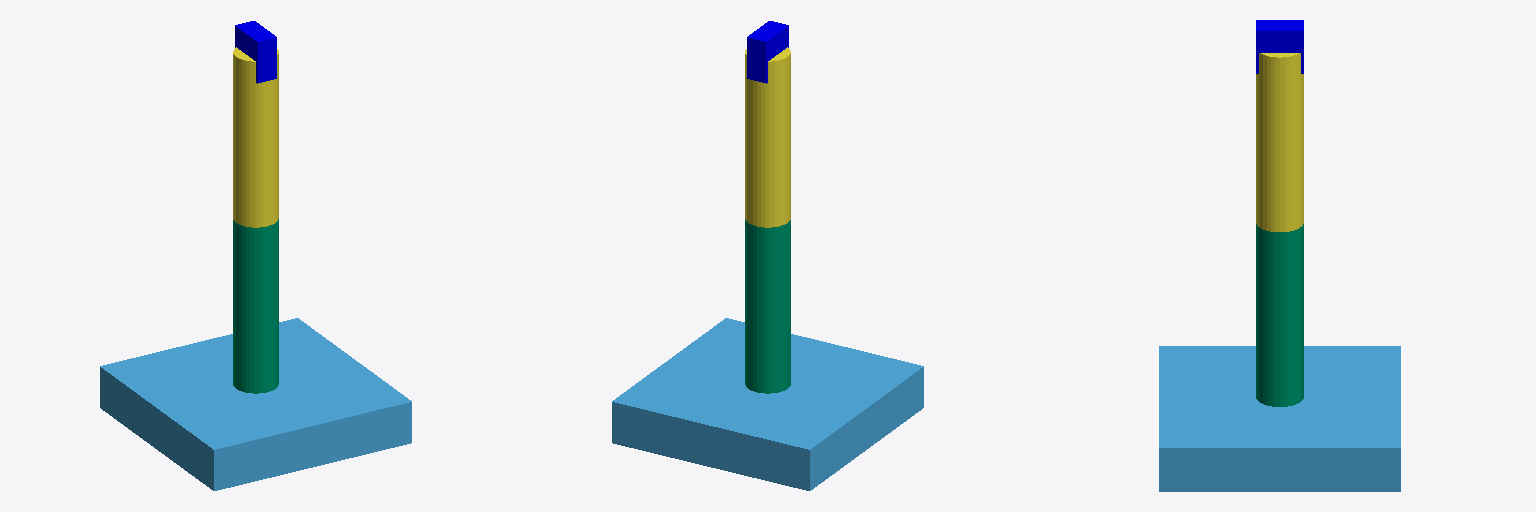
URDF robot description (waste_robot):
<?xml version="1.0"?>
<robot name="waste_robot">

  <link name="world"/>
<joint name="fixed" type="fixed">
  <parent link="world"/>
  <child link="base_link"/>
  <origin xyz="0 0 0" rpy="0 0 0"/>
</joint>

  <!-- BASE LINK -->
  <link name="base_link">
    <visual>
      <geometry><box size="0.5 0.5 0.1"/></geometry>
    </visual>
<!--
<collision>
  <geometry><box size="0.5 0.5 0.1"/></geometry>
</collision>
-->
    <inertial>
      <mass value="5.0"/>
      <inertia ixx="0.1" ixy="0" ixz="0" iyy="0.1" iyz="0" izz="0.1"/>
    </inertial>
  </link>

  <!-- SHOULDER JOINT -->
  <joint name="shoulder_joint" type="fixed">
    <parent link="base_link"/>
    <child link="shoulder_link"/>
    <origin xyz="0 0 0.05"/>
    <axis xyz="0 0 1"/>
    <limit effort="300" velocity="2.0" lower="-3.14" upper="3.14"/>
  </joint>

  <!-- SHOULDER LINK -->
  <link name="shoulder_link">
    <visual>
      <geometry><cylinder length="0.4" radius="0.05"/></geometry>
      <origin xyz="0 0 0.2"/>
    </visual>
    <collision>
      <geometry><cylinder length="0.4" radius="0.05"/></geometry>
      <origin xyz="0 0 0.2"/>
    </collision>
    <inertial>
      <mass value="2.0"/>
      <origin xyz="0 0 0.2"/>
      <inertia ixx="0.01" ixy="0" ixz="0" iyy="0.01" iyz="0" izz="0.01"/>
    </inertial>
  </link>

  <!-- ELBOW JOINT -->
  <joint name="elbow_joint" type="fixed">
    <parent link="shoulder_link"/>
    <child link="elbow_link"/>
    <origin xyz="0 0 0.4"/>
    <axis xyz="0 1 0"/>
    <limit effort="300" velocity="2.0" lower="-1.57" upper="1.57"/>
  </joint>

  <!-- ELBOW LINK -->
  <link name="elbow_link">
    <visual>
      <geometry><cylinder length="0.4" radius="0.05"/></geometry>
      <origin xyz="0 0 0.2"/>
    </visual>
    <collision>
      <geometry><cylinder length="0.4" radius="0.05"/></geometry>
      <origin xyz="0 0 0.2"/>
    </collision>
    <inertial>
      <mass value="2.0"/>
      <origin xyz="0 0 0.2"/>
      <inertia ixx="0.01" ixy="0" ixz="0" iyy="0.01" iyz="0" izz="0.01"/>
    </inertial>
  </link>

  <!-- GRIPPER LINK -->
  <link name="gripper_link">
    <visual>
      <geometry><box size="0.05 0.1 0.1"/></geometry>
      <material name="blue">
        <color rgba="0 0 1 1"/>
      </material>
    </visual>
    <collision>
      <geometry><box size="0.05 0.1 0.1"/></geometry>
    </collision>
    <inertial>
      <mass value="0.5"/>
      <inertia ixx="0.001" ixy="0" ixz="0" iyy="0.001" iyz="0" izz="0.001"/>
    </inertial>
  </link>

  <gazebo reference="gripper_link">
    <material>Gazebo/Blue</material>
  </gazebo>

  <joint name="gripper_joint" type="fixed">
    <parent link="elbow_link"/>
    <child link="gripper_link"/>
    <origin xyz="0 0 0.4" rpy="0 0 0"/>
  </joint>


<!-- PLUGINS -->
<!--
<gazebo>
  <plugin name="gazebo_ros_control" filename="libgazebo_ros_control.so">
    <robotNamespace>/</robotNamespace>
    <legacyModeNS>true</legacyModeNS>
  </plugin>
</gazebo>
-->

<gazebo>
  <plugin name="ros_link_attacher_plugin" filename="libgazebo_ros_link_attacher.so"/>
</gazebo>

<!-- JOINT STATE PUBLISHER -->
<!--
<gazebo>
  <plugin name="joint_state_publisher" filename="libgazebo_ros_joint_state_publisher.so">
    <robotNamespace>/</robotNamespace>
    <jointName>shoulder_joint,elbow_joint</jointName>
    <updateRate>50.0</updateRate>
  </plugin>
</gazebo>
-->

<!-- TRANSMISSIONS -->
<transmission name="shoulder_trans">
  <type>transmission_interface/SimpleTransmission</type>

  <joint name="shoulder_joint">
    <hardwareInterface>hardware_interface/EffortJointInterface</hardwareInterface>
  </joint>

  <actuator name="shoulder_motor">
    <hardwareInterface>hardware_interface/EffortJointInterface</hardwareInterface>
    <mechanicalReduction>1</mechanicalReduction>
  </actuator>
</transmission>

<transmission name="elbow_trans">
  <type>transmission_interface/SimpleTransmission</type>

  <joint name="elbow_joint">
    <hardwareInterface>hardware_interface/EffortJointInterface</hardwareInterface>
  </joint>

  <actuator name="elbow_motor">
    <hardwareInterface>hardware_interface/EffortJointInterface</hardwareInterface>
    <mechanicalReduction>1</mechanicalReduction>
  </actuator>
</transmission>

</robot>

--- What the picture shows (computed from the rendered views, not written in the file) ---
The picture shows the robot from 3 angles, left to right: view 1: azimuth 30°, elevation 25°; view 2: azimuth 150°, elevation 25°; view 3: azimuth 270°, elevation 25°; orthographic projection.
Robot: waste_robot — 5 links, 4 joints (4 fixed); root link world; default pose: every joint at zero.
Links seen in each view (by area): view 1: base_link, shoulder_link, elbow_link, gripper_link; view 2: base_link, shoulder_link, elbow_link, gripper_link; view 3: base_link, shoulder_link, elbow_link, gripper_link.
Boxes of the visible links, x1,y1,x2,y2 form: base_link: (100, 318, 411, 490); shoulder_link: (233, 219, 278, 393); elbow_link: (233, 47, 278, 227); gripper_link: (235, 21, 276, 83); base_link: (612, 318, 923, 490); shoulder_link: (745, 219, 790, 393); elbow_link: (745, 47, 790, 227); gripper_link: (747, 21, 788, 83); base_link: (1159, 346, 1400, 491); shoulder_link: (1256, 224, 1303, 406); elbow_link: (1256, 53, 1303, 231); gripper_link: (1256, 20, 1303, 73).
Bounding box of the posed robot: 0.5 × 0.5 × 0.95 m (x, y, z).
Geometry: primitives only (box / cylinder / sphere), no mesh files.
